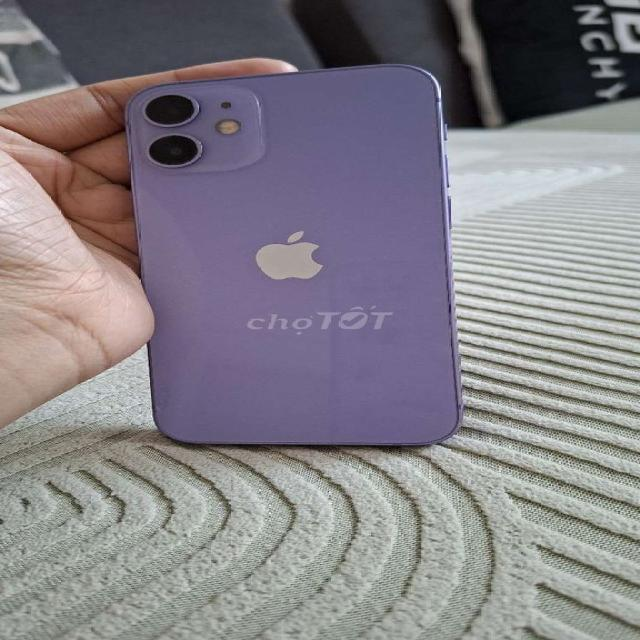gen_12_13: (118, 62, 474, 450)
